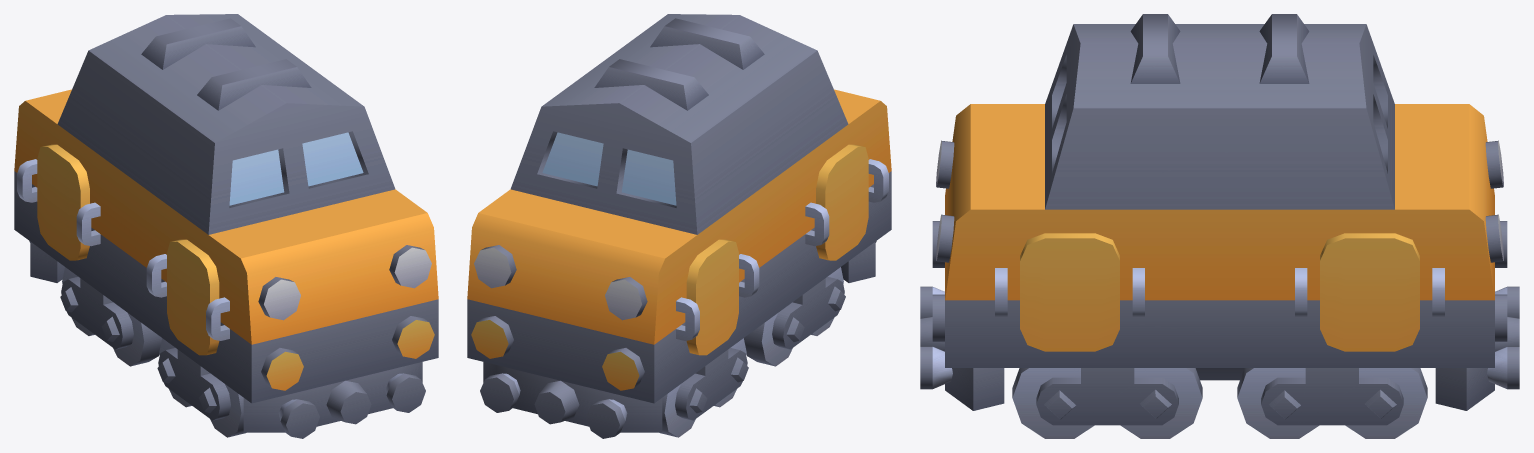
Rendered from diesellok.glb.
3 views of the same model, side by side, from view 1: azimuth 30°, elevation 25°; view 2: azimuth 150°, elevation 25°; view 3: azimuth 270°, elevation 25° (orthographic). The views are drawn at different scales.
Visible parts, largest first — view 1: train-diesel-a, wheels-back, wheels-front; view 2: train-diesel-a, wheels-front, wheels-back; view 3: train-diesel-a, wheels-front, wheels-back.
Boxes of the visible parts, bbox=[...] form: train-diesel-a: bbox=[14, 14, 438, 438]; wheels-back: bbox=[60, 267, 161, 366]; wheels-front: bbox=[157, 338, 246, 437]; train-diesel-a: bbox=[467, 14, 891, 438]; wheels-front: bbox=[744, 267, 845, 366]; wheels-back: bbox=[659, 338, 748, 437]; train-diesel-a: bbox=[920, 14, 1519, 410]; wheels-front: bbox=[1012, 368, 1202, 438]; wheels-back: bbox=[1237, 368, 1427, 438].
Bounding box in the file's own units: 1.2 × 1.6 × 2.4.
1 material, 1 textured.
